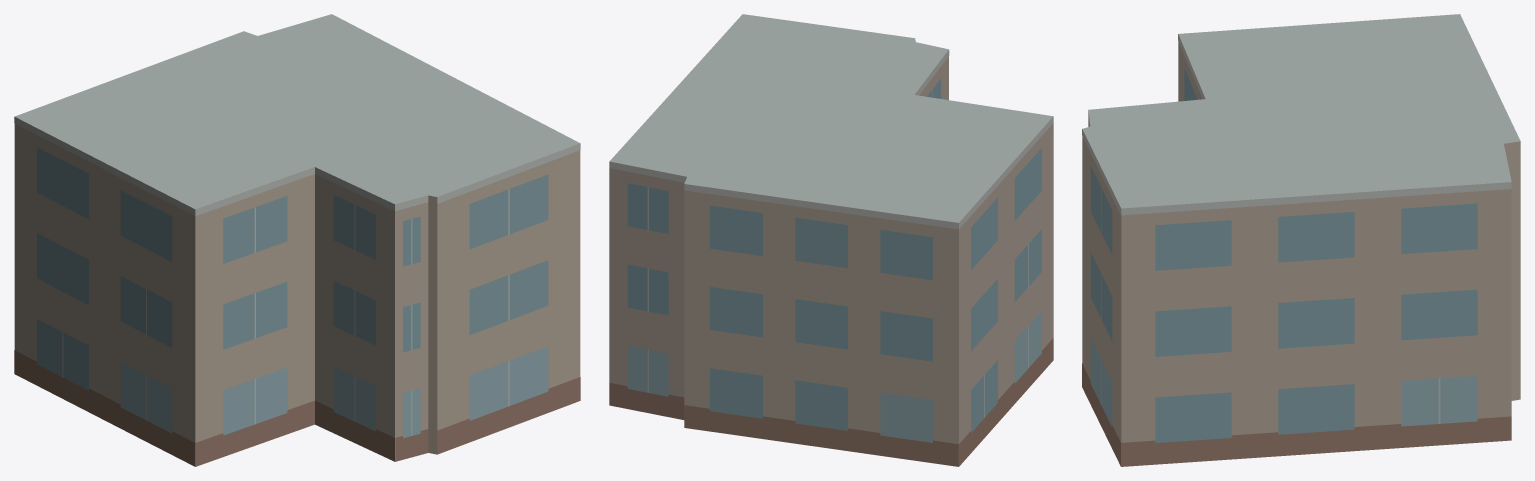
Rendered from survey-upis-32669658.glb.
The picture shows the model from 3 angles, left to right: view 1: azimuth 30°, elevation 25°; view 2: azimuth 150°, elevation 25°; view 3: azimuth 270°, elevation 25°; orthographic projection. The views are drawn at different scales.
Parts seen in each view (by area): view 1: survey-upis-32669658.tmp; view 2: survey-upis-32669658.tmp; view 3: survey-upis-32669658.tmp.
Part boxes in pixels (<box>): survey-upis-32669658.tmp: <box>14,14,580,466</box>; survey-upis-32669658.tmp: <box>609,14,1053,466</box>; survey-upis-32669658.tmp: <box>1082,14,1520,466</box>.
Size of the model in its own units: 14.78 by 9.15 by 14.08.
